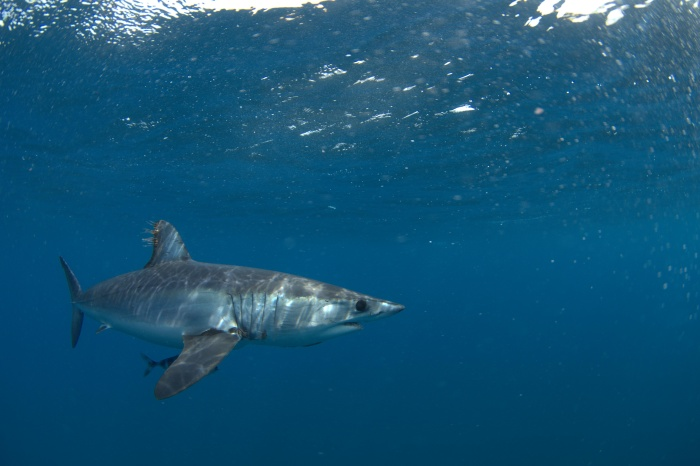Mako: (36, 204, 412, 405)
